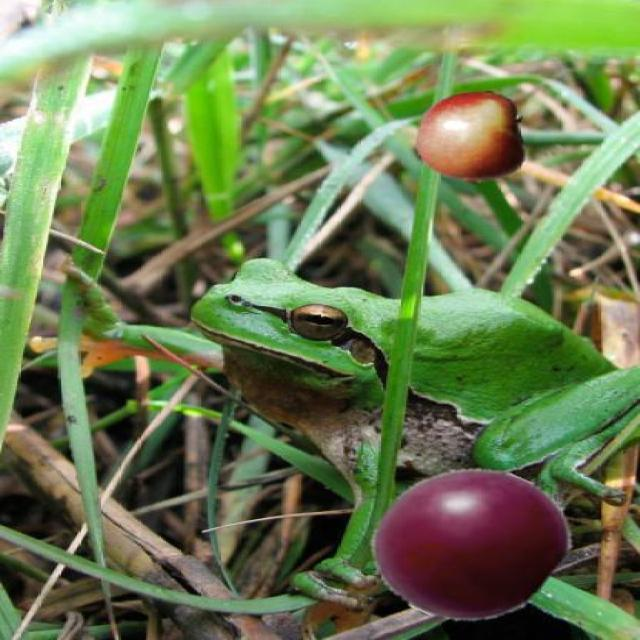Apple: (369, 467, 571, 619), (410, 89, 536, 184)
